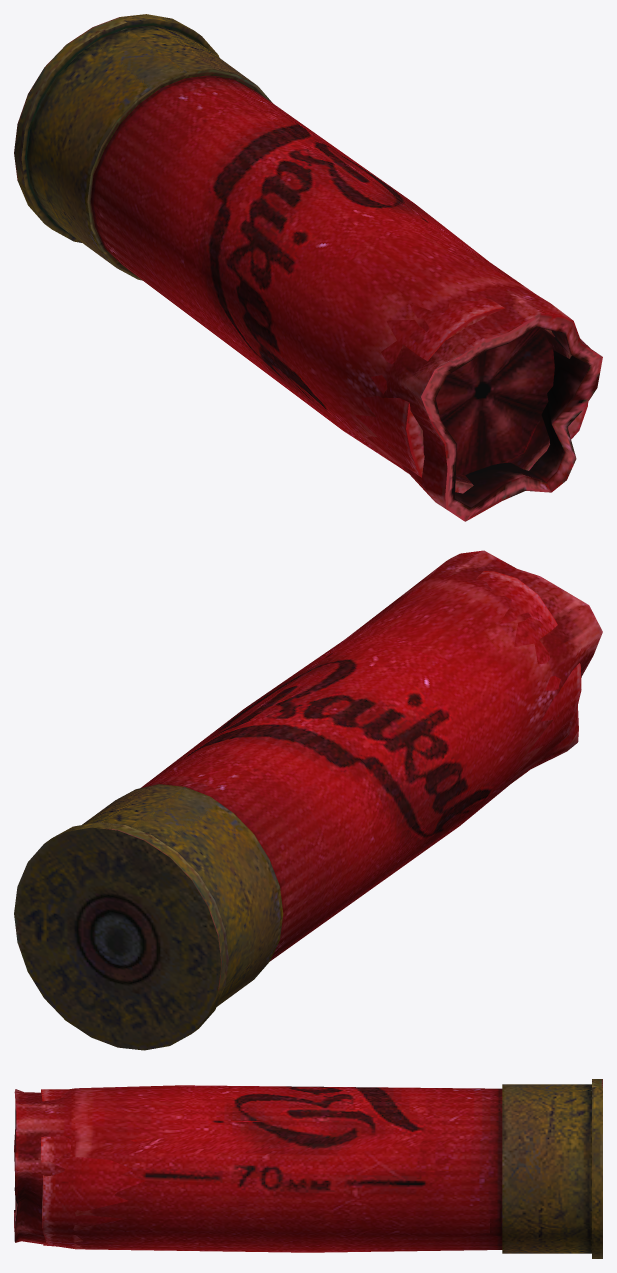
Rendered from patron_12x70.fbx.
The picture shows the model from 3 angles, top to bottom: view 1: azimuth 30°, elevation 25°; view 2: azimuth 150°, elevation 25°; view 3: azimuth 270°, elevation 25°; orthographic projection. The views are drawn at different scales.
Visible parts, largest first — view 1: patron_12x70_shell_LOD0, patron_12x70_full_LOD0; view 2: patron_12x70_shell_LOD0, patron_12x70_full_LOD0; view 3: patron_12x70_shell_LOD0, patron_12x70_full_LOD0.
Boxes of the visible parts, left/top/right/bottom form: patron_12x70_shell_LOD0: left=18, top=14, right=602, bottom=521; patron_12x70_full_LOD0: left=14, top=16, right=588, bottom=493; patron_12x70_shell_LOD0: left=14, top=550, right=602, bottom=1050; patron_12x70_full_LOD0: left=97, top=571, right=581, bottom=1006; patron_12x70_shell_LOD0: left=14, top=1084, right=602, bottom=1258; patron_12x70_full_LOD0: left=41, top=1079, right=602, bottom=1248.
Size of what is drawn, in the model's own units: 0.0205 by 0.0205 by 0.067.
Materials: 1 (1 with a texture image).
